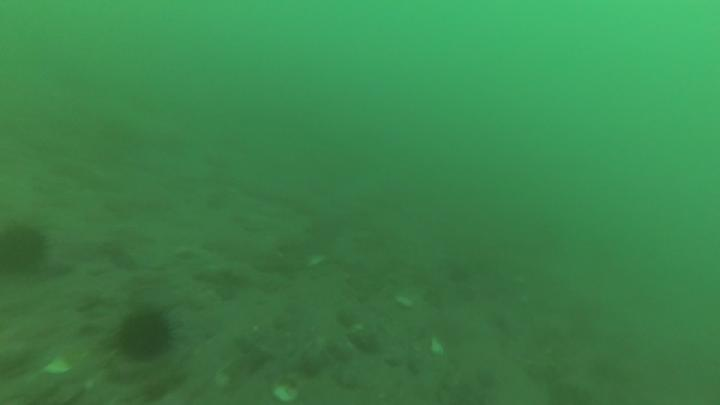echinus: (113, 308, 179, 365), (1, 223, 53, 281)
